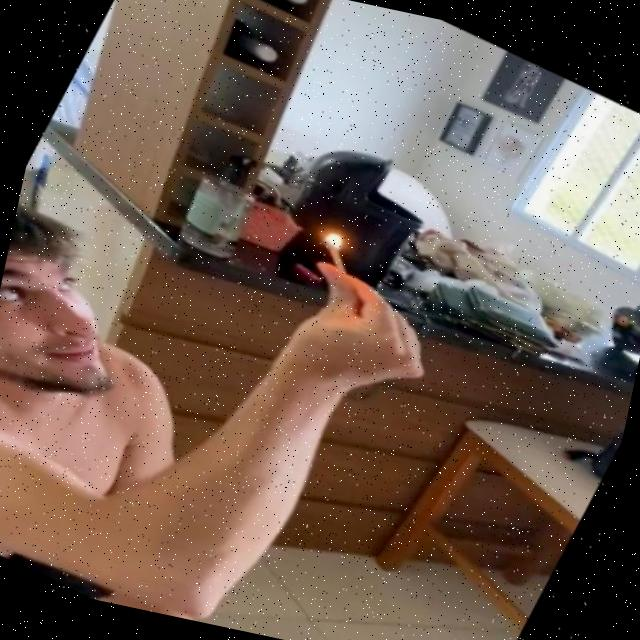fire: (322, 225, 354, 252)
